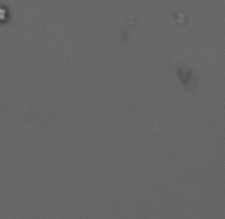Living Cell: (1, 5, 9, 25)
